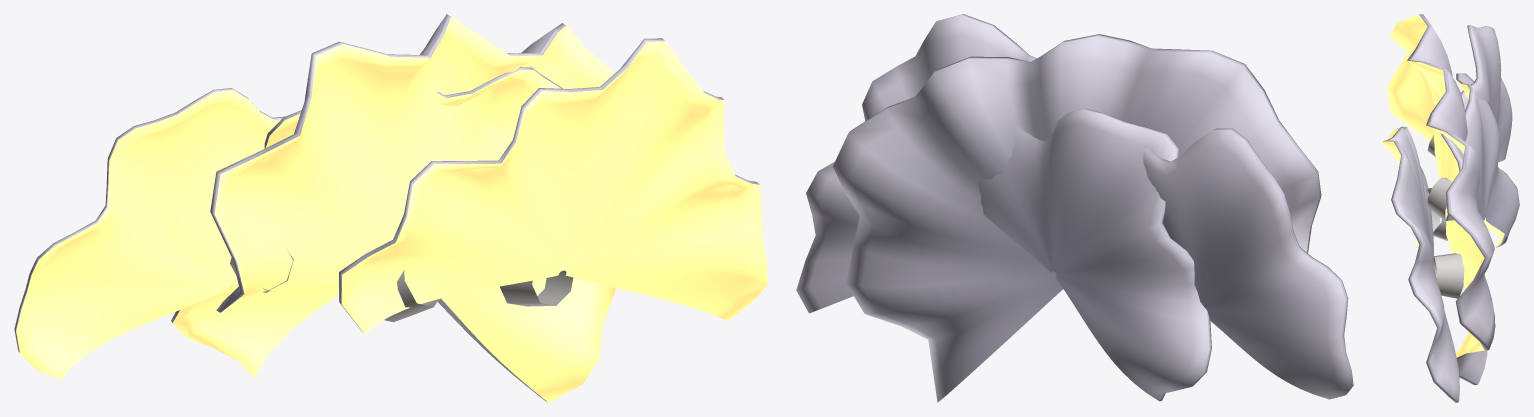
File: mushroom_food.glb
The picture shows the model from 3 angles, left to right: view 1: azimuth 30°, elevation 25°; view 2: azimuth 150°, elevation 25°; view 3: azimuth 270°, elevation 25°; orthographic projection. The views are drawn at different scales.
Visible parts, largest first — view 1: MushroomFood; view 2: MushroomFood; view 3: MushroomFood.
Boxes of the visible parts, <box> form: MushroomFood: <box>14,14,767,402</box>; MushroomFood: <box>796,14,1353,402</box>; MushroomFood: <box>1382,14,1519,402</box>.
Bounding box in the file's own units: 0.5617 × 0.3451 × 0.1513.
